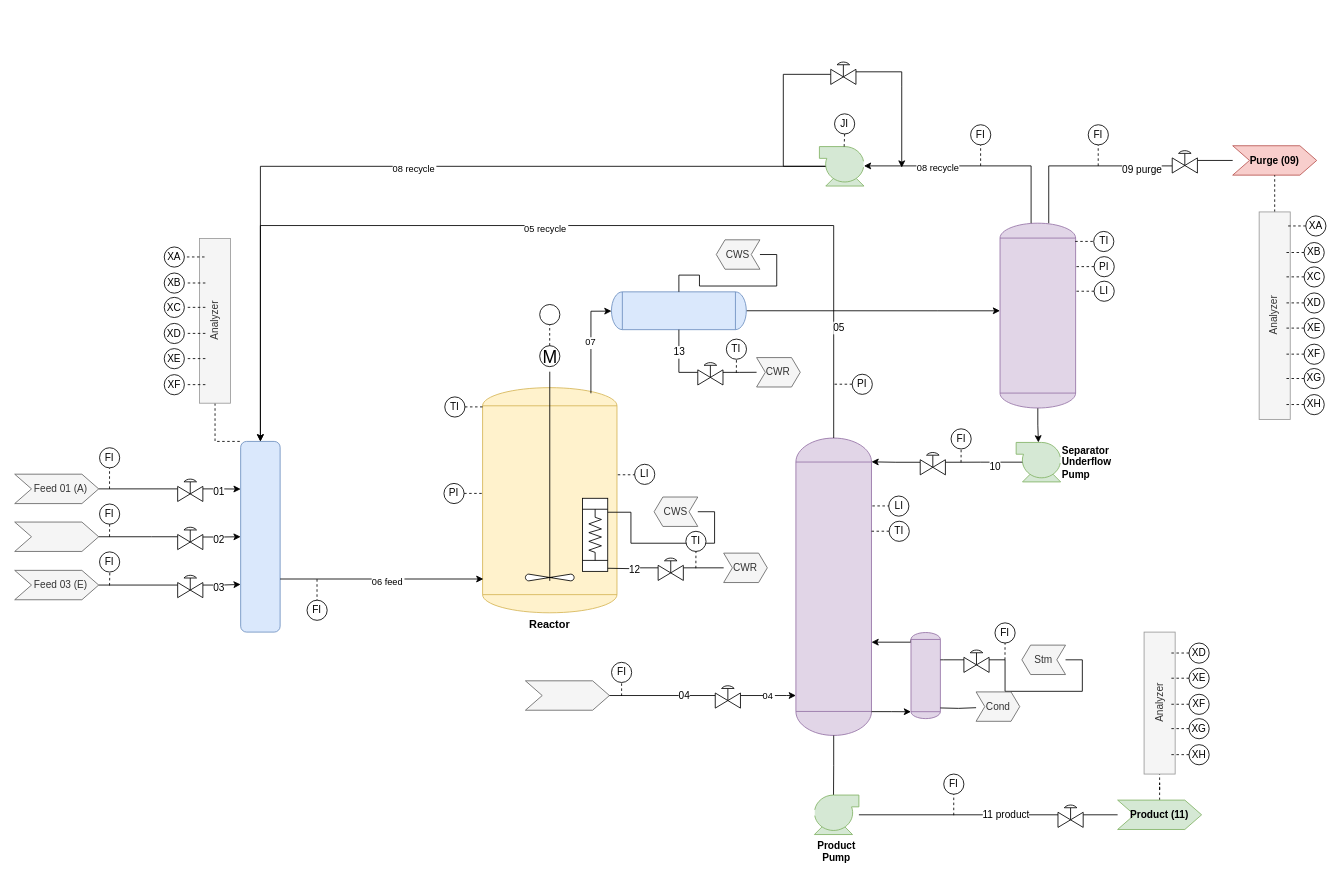
Some shapes in this 1341 by 879 pixel diagram are drawn without their labels. Here are the shapes that lost their labels. From the top down, the centre of each, then its label:
At point (841, 166): "Compressor".
At point (549, 314): "SC".
At point (678, 310): "Condenser".
At point (1037, 315): "Separator Vap/Liq".
At point (56, 536): "Feed 02 (D)".
At point (260, 536): "Feed Mixer".
At point (833, 586): "Stripper".
At point (567, 695): "Feed 04 (A/C)".
At point (925, 675): "boiler".
